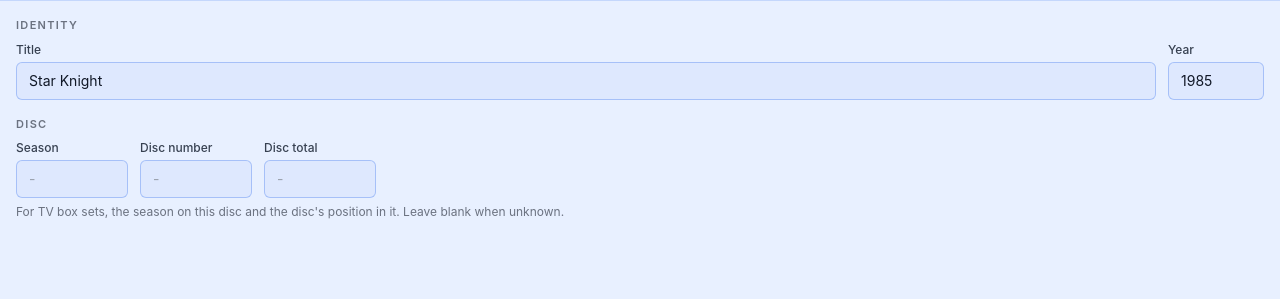
it: JobInfoForm › has no Start button — the form only saves metadata (Start lives in the action row)
editing reveals only Save + Reset
Replace the text in the number field labelled "Year" with "1986" at point(1216, 80), box x1=1168 y1=62 x2=1264 y2=100
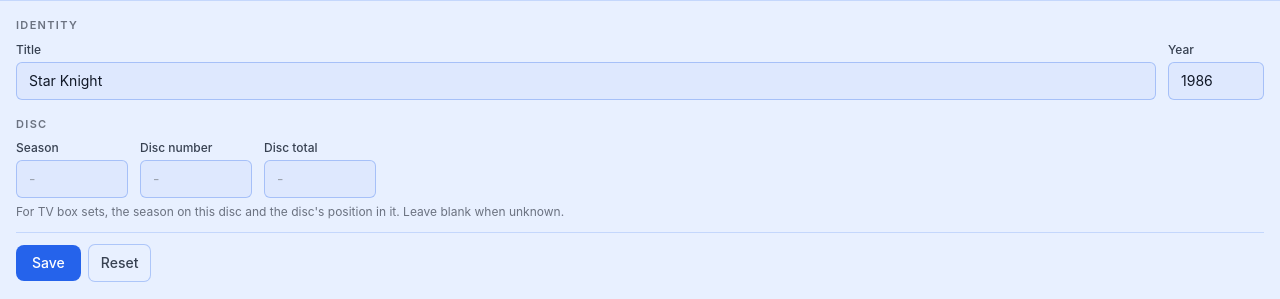
expect the button "Save" is shown: met, box x1=16 y1=245 x2=81 y2=281
